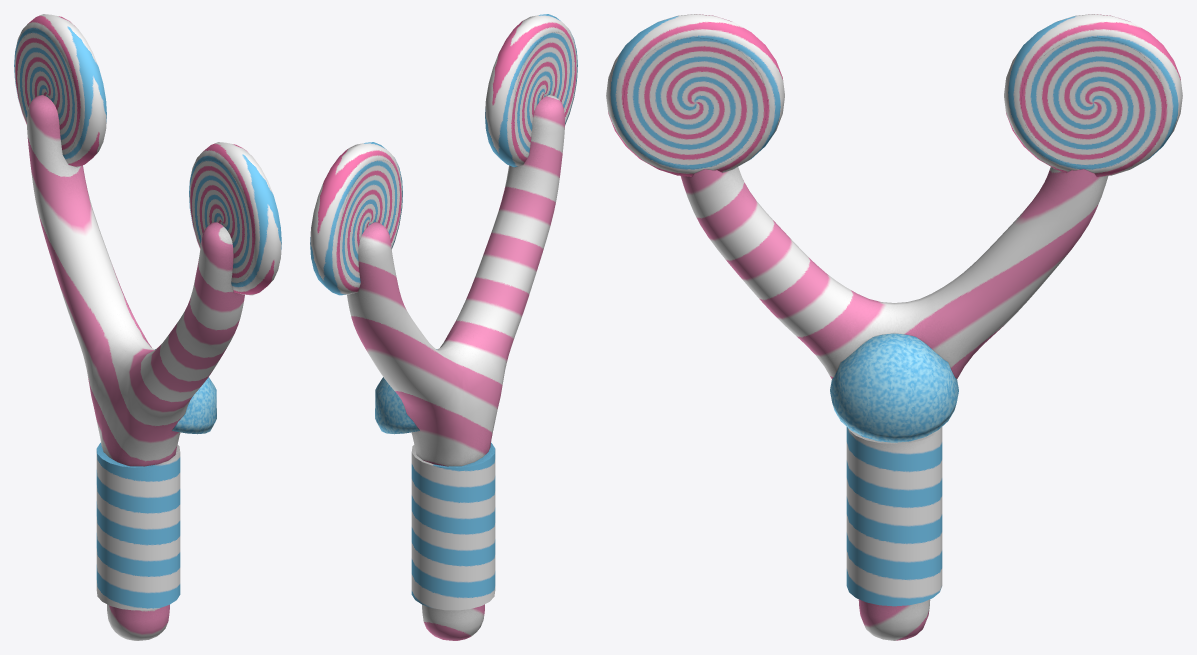
The model's file is Candy Slingshot.fbx.
3 renders of one model, left to right at view 1: azimuth 30°, elevation 25°; view 2: azimuth 150°, elevation 25°; view 3: azimuth 270°, elevation 25°, orthographic. The views are drawn at different scales.
Parts seen in each view (by area): view 1: Candy Slingshot; view 2: Candy Slingshot; view 3: Candy Slingshot.
Part boxes in pixels (x1,y1,x2,y2): Candy Slingshot: [14, 14, 281, 640]; Candy Slingshot: [310, 14, 577, 640]; Candy Slingshot: [606, 14, 1182, 640].
Bounding box in the file's own units: 2.85 × 13.92 × 11.6.
1 material, 1 textured.
